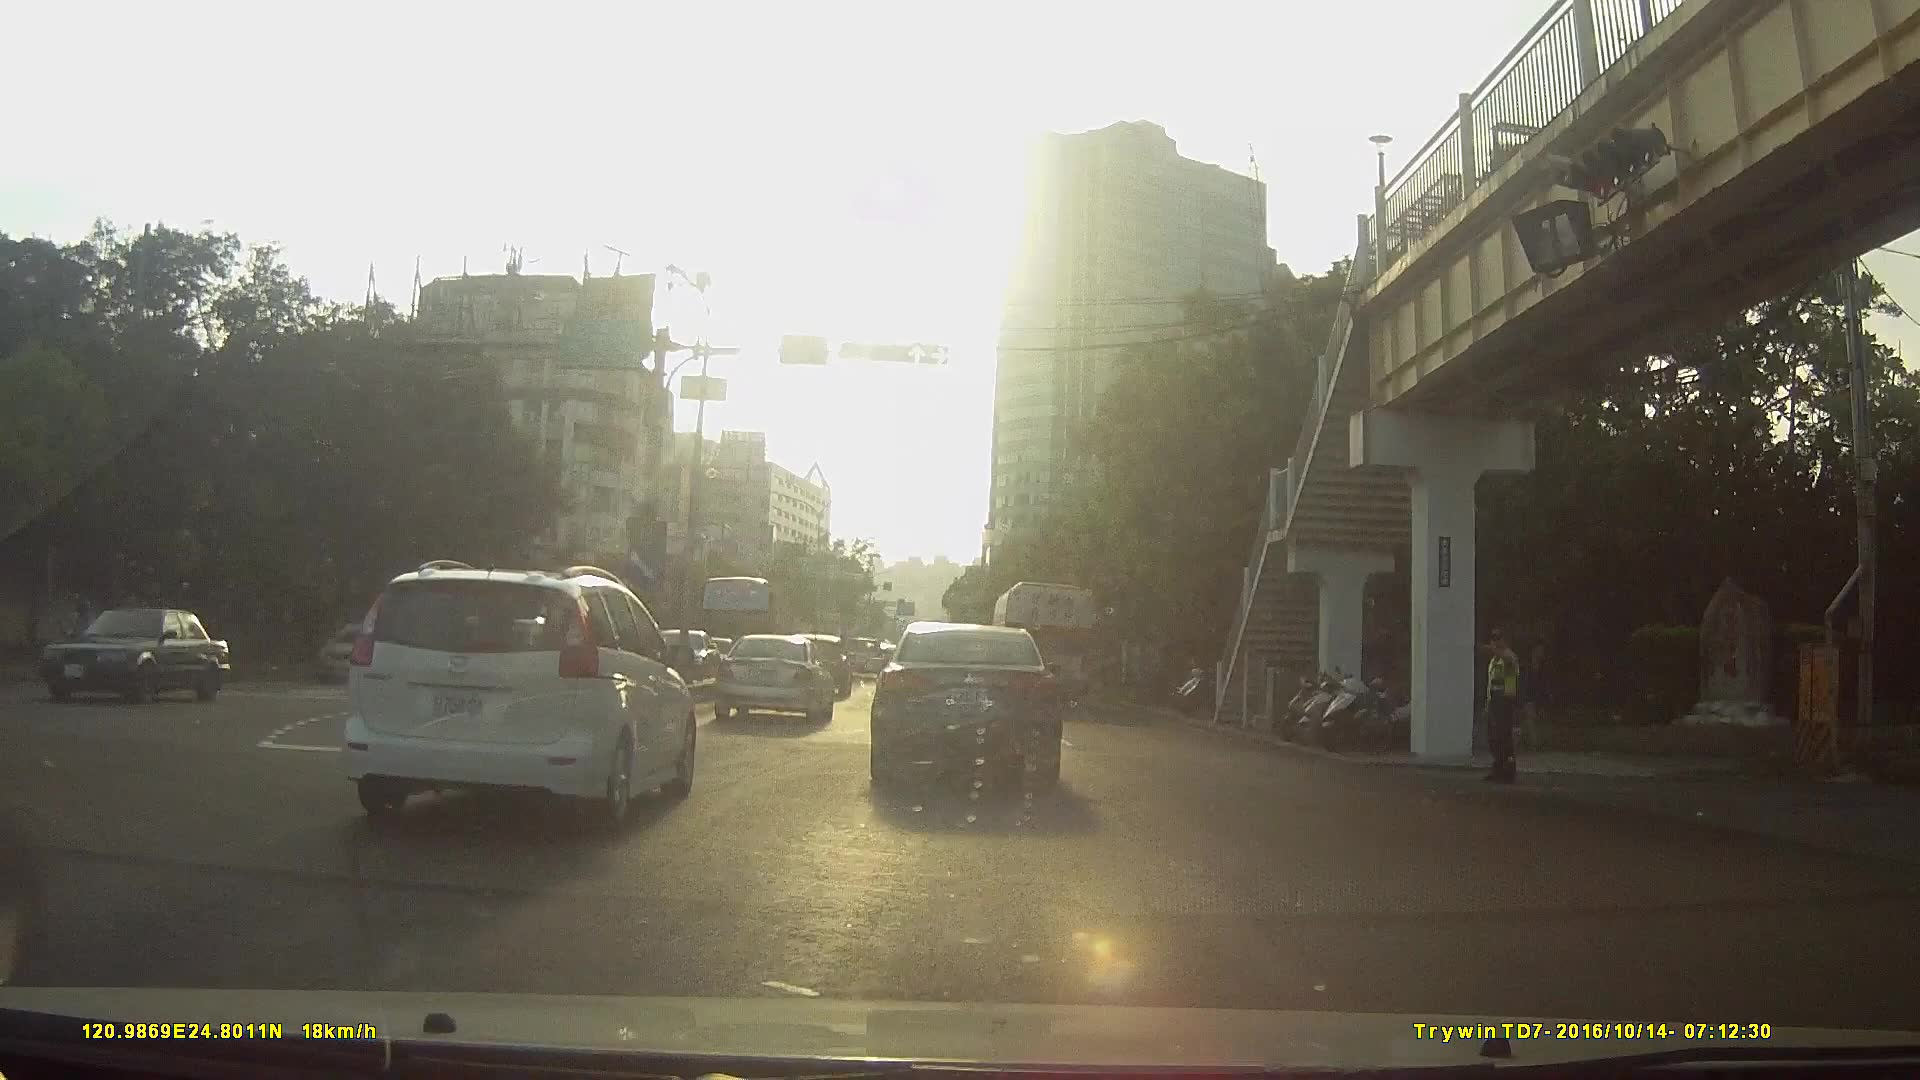pedestrian: (1476, 627, 1528, 784)
vehicle: (250, 556, 684, 868), (340, 555, 693, 827), (865, 613, 1060, 787), (43, 604, 240, 709), (986, 577, 1097, 709), (709, 628, 834, 723), (692, 570, 790, 668), (304, 617, 417, 693), (838, 635, 887, 684)
